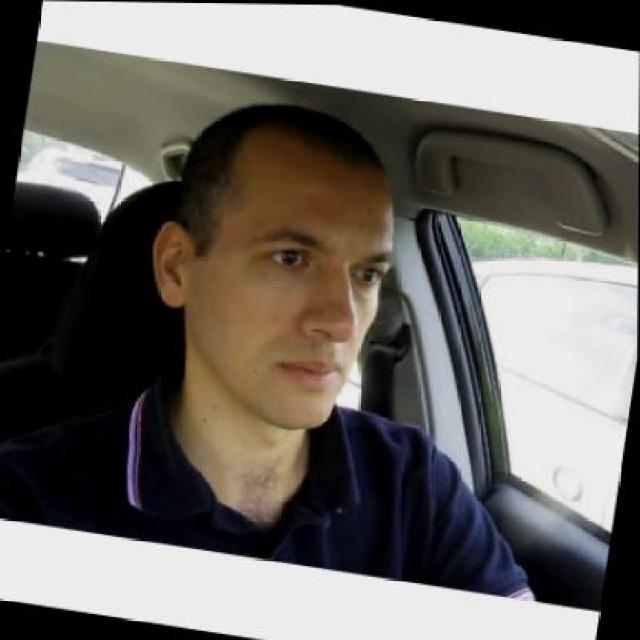attentif: (131, 84, 414, 441)
